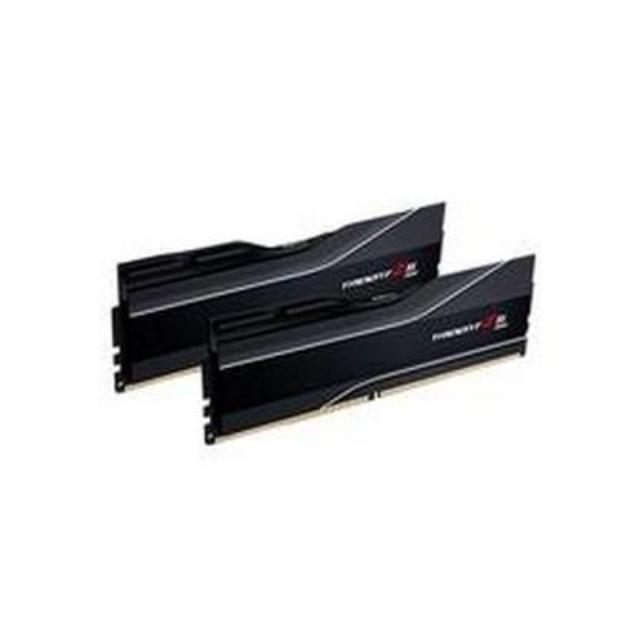RAM: (104, 200, 536, 446)
